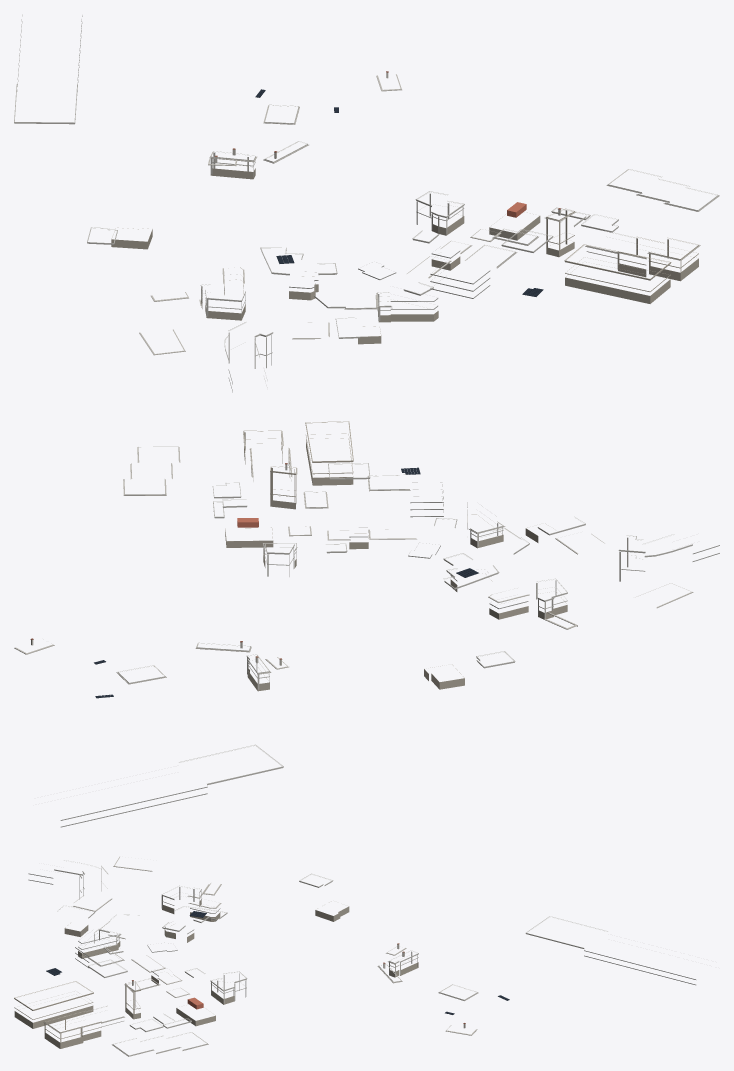
3 renders of one model, top to bottom at view 1: azimuth 30°, elevation 25°; view 2: azimuth 150°, elevation 25°; view 3: azimuth 270°, elevation 25°, orthographic. The views are drawn at different scales.
Visible parts, largest first — view 1: detail; view 2: detail; view 3: detail.
Boxes of the visible parts, box(x1,y1,x2,y2) form: detail: box(14, 14, 719, 392); detail: box(14, 421, 719, 827); detail: box(14, 856, 695, 1056).
Size of the model in its own units: 230 by 23.22 by 323.
